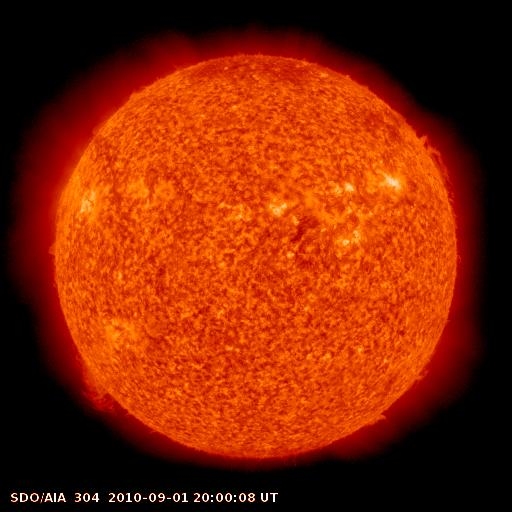prominence: (415, 121, 465, 204), (65, 345, 121, 419), (41, 226, 66, 291), (359, 401, 395, 440), (404, 360, 442, 389)
